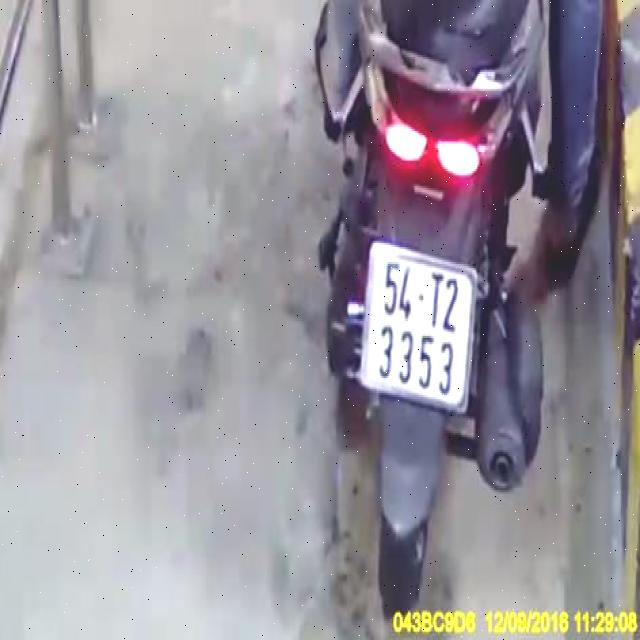2: (444, 276, 460, 338)
3: (377, 326, 395, 380), (398, 328, 414, 384), (438, 341, 452, 399)
4: (398, 262, 413, 322)
5: (418, 332, 438, 392), (381, 260, 400, 320)
T: (429, 266, 445, 333)
